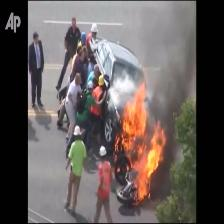fire: (114, 82, 166, 201)
